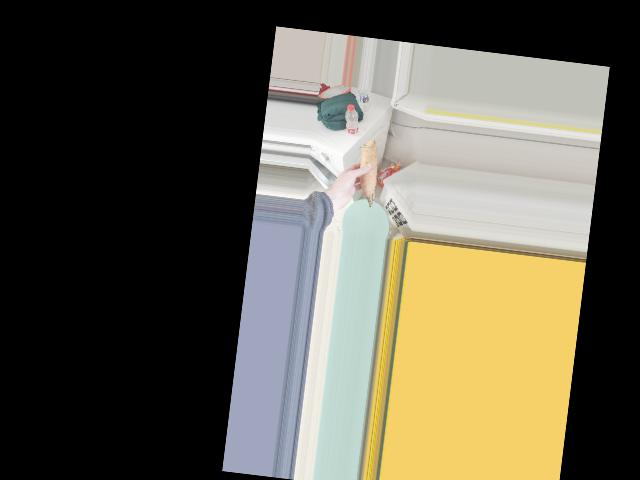sweet_potato: (350, 135, 382, 209)
